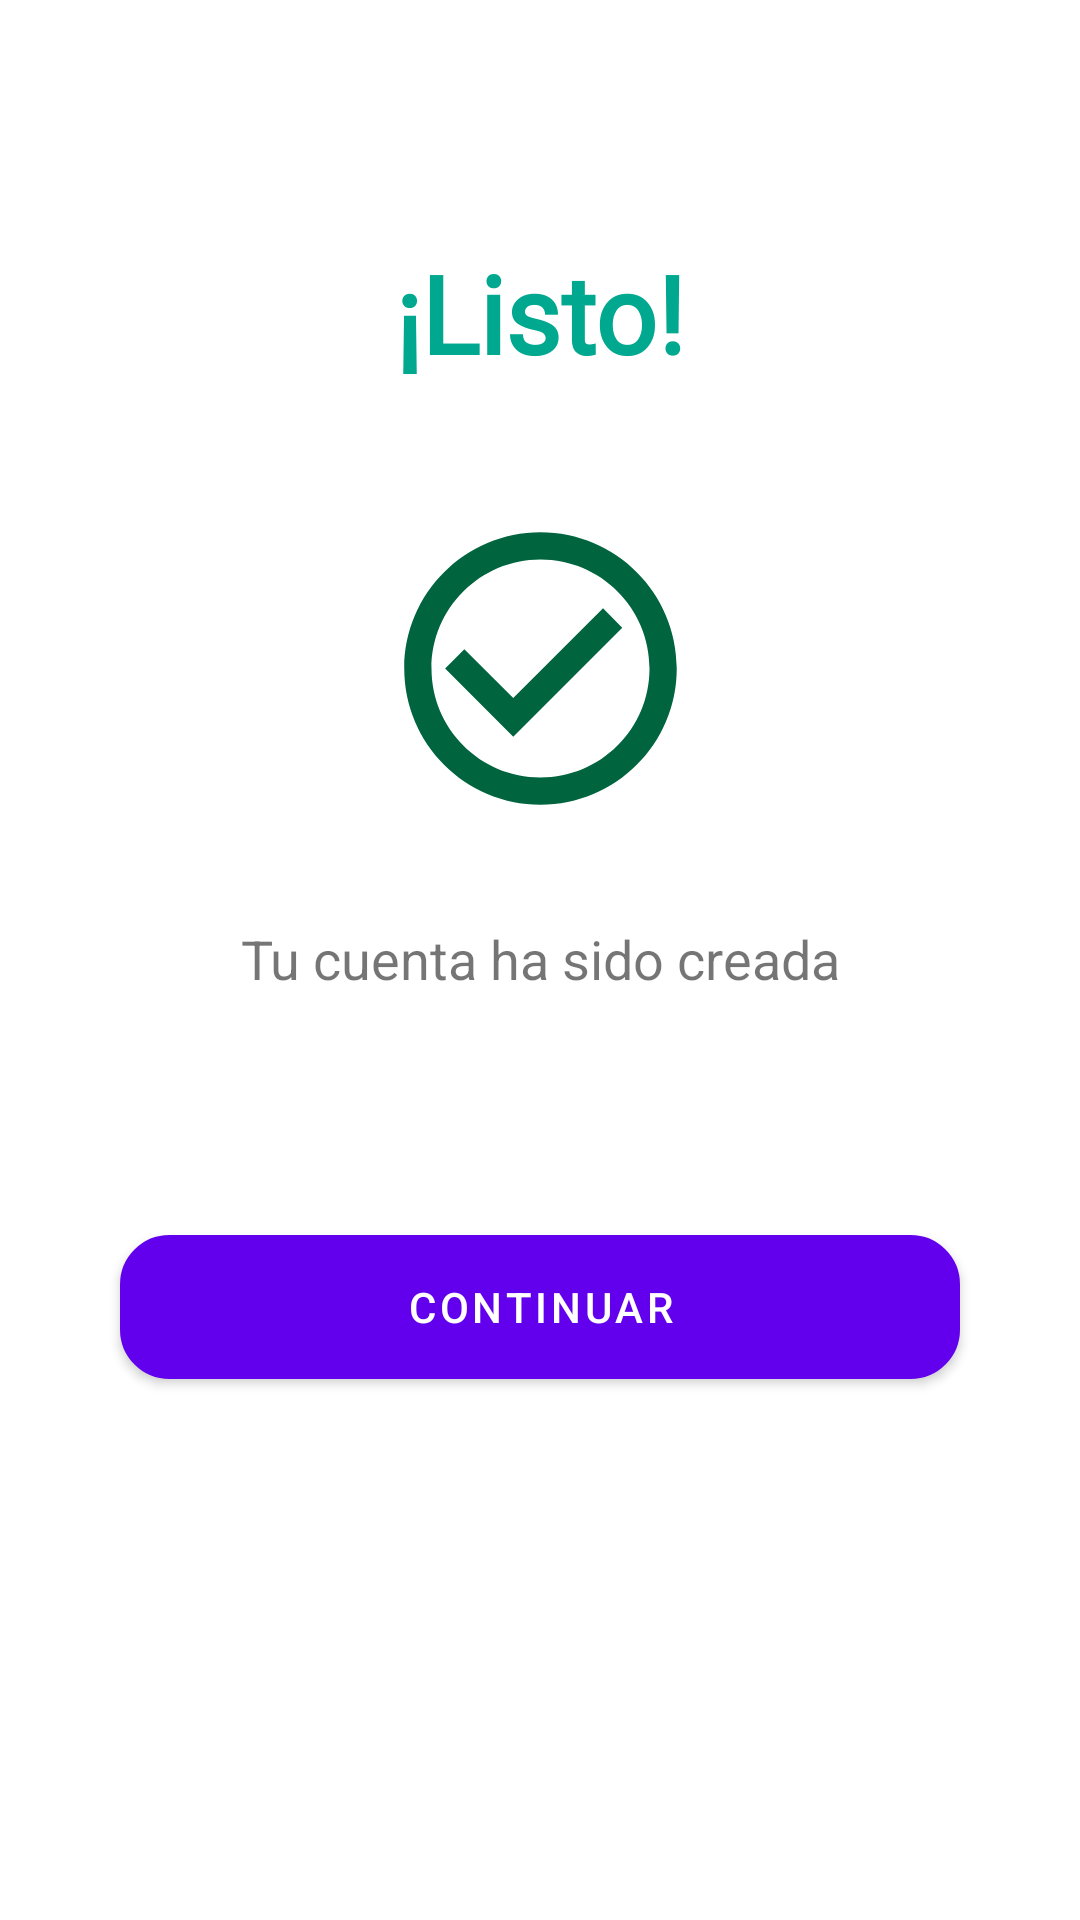

Screen size 1080 x 1920. Icon name, then its box in pixels as (x1, y1, x2, y2):
check: (404, 532, 677, 805)
